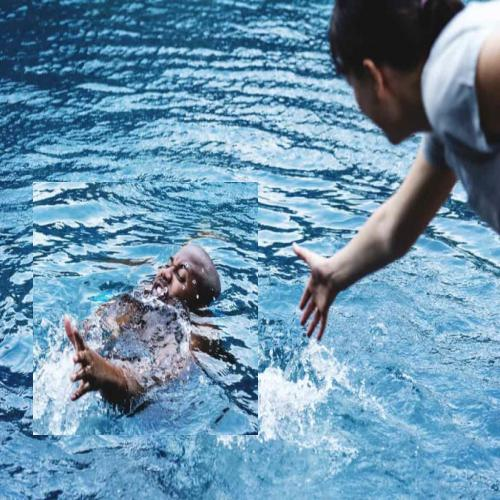drowning: (33, 182, 259, 436)
